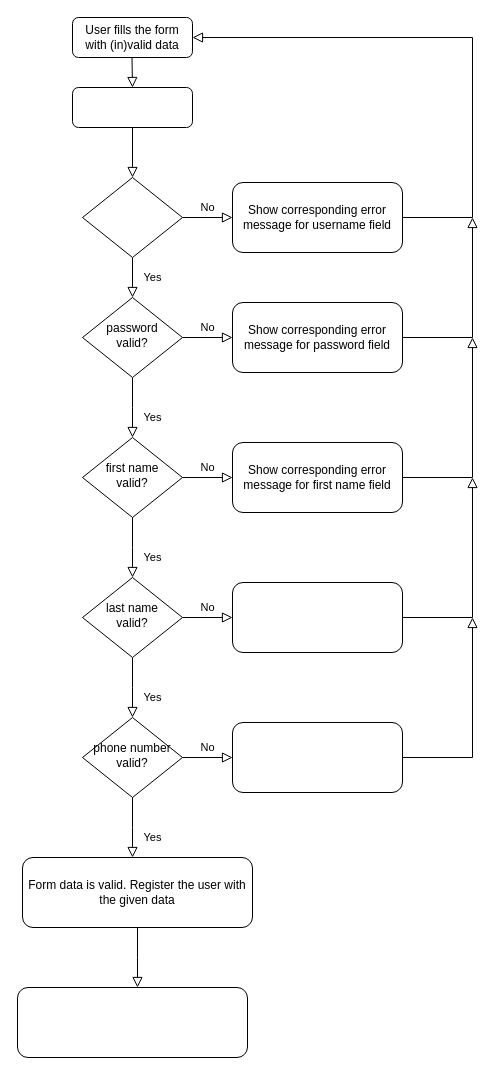
This 500x1075 diagram has some shape labels left out. The centre of each missing label's shape, as x and y in pixels:
Redirect to Login Page: (x=132, y=1022)
Show corresponding error message for last name field: (x=317, y=617)
Show corresponding error message for phone number field: (x=317, y=757)
User presses "Register" button: (x=132, y=107)
username valid?: (x=132, y=217)
